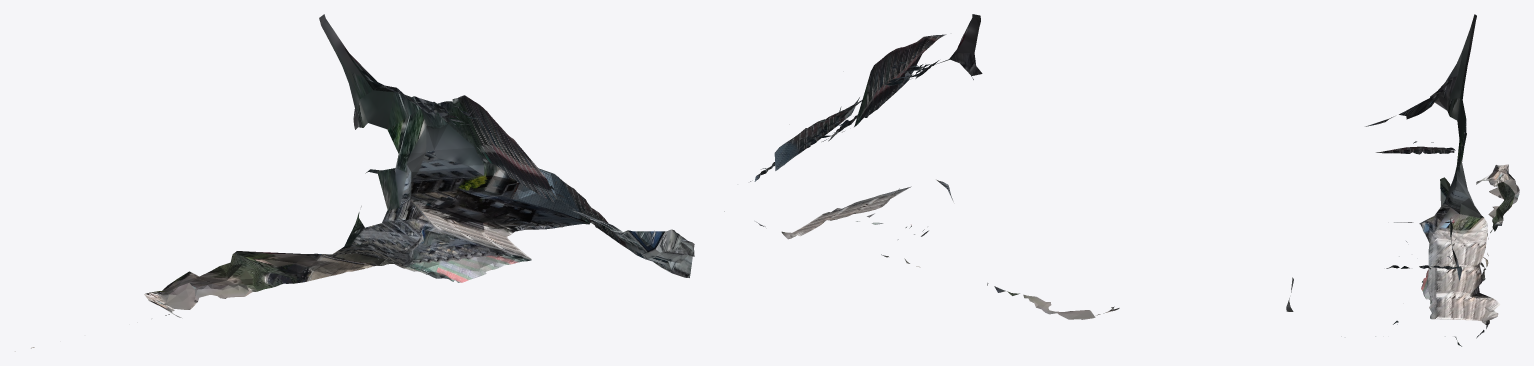
Rendered from Tile_+001_+004.glb.
The picture shows the model from 3 angles, left to right: view 1: azimuth 30°, elevation 25°; view 2: azimuth 150°, elevation 25°; view 3: azimuth 270°, elevation 25°; orthographic projection. The views are drawn at different scales.
Parts seen in each view (by area): view 1: Node; view 2: Node; view 3: Node.
Boxes of the visible parts, bbox=[...] form: Node: bbox=[15, 14, 694, 351]; Node: bbox=[724, 14, 1119, 319]; Node: bbox=[1286, 14, 1519, 346].
Size of the model in its own units: 155 by 70.96 by 65.66.
2 materials, 2 textured.
